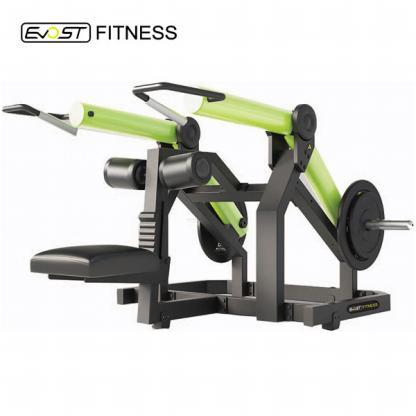seated dip machine: (3, 80, 415, 332)
